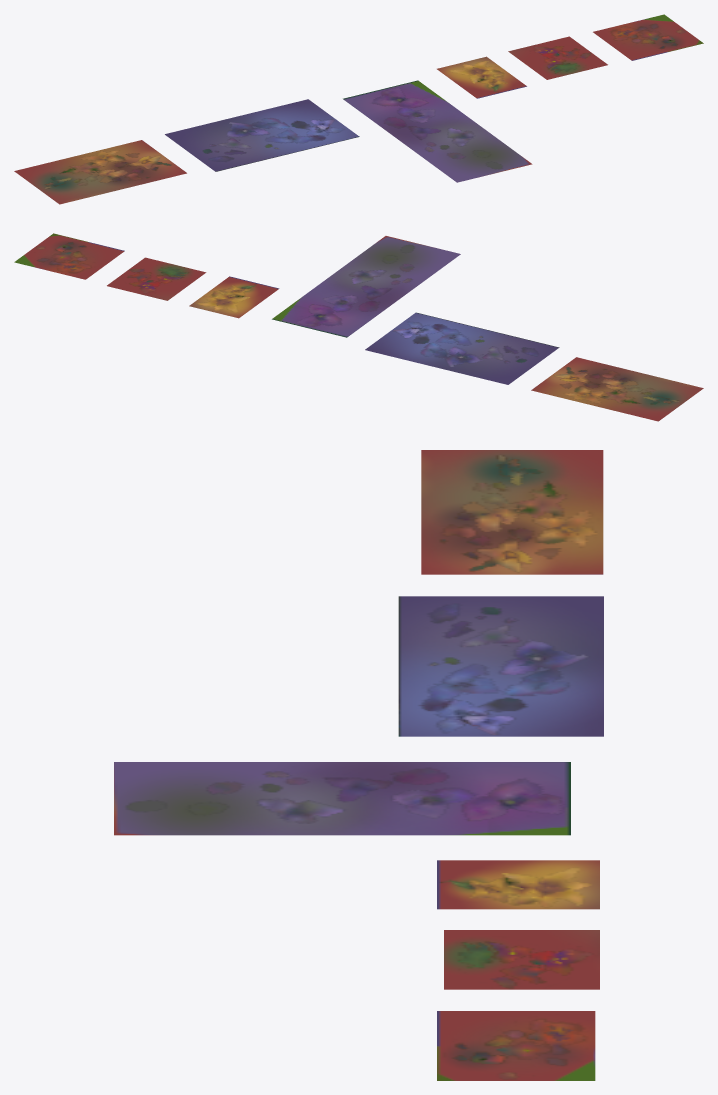
The model's file is FB1_huaban.FBX.
3 views of the same model, one above another, from view 1: azimuth 30°, elevation 25°; view 2: azimuth 150°, elevation 25°; view 3: azimuth 270°, elevation 25° (orthographic). The views are drawn at different scales.
Parts seen in each view (by area): view 1: FB1_huaban_003, FB1_huaban_002, FB1_huaban_001, FB1_huaban_006, FB1_huaban_005, FB1_huaban_004; view 2: FB1_huaban_003, FB1_huaban_002, FB1_huaban_001, FB1_huaban_006, FB1_huaban_005, FB1_huaban_004; view 3: FB1_huaban_003, FB1_huaban_002, FB1_huaban_001, FB1_huaban_006, FB1_huaban_005, FB1_huaban_004.
Part boxes in pixels (x1,y1,x2,y2): FB1_huaban_003: [343, 80, 532, 182]; FB1_huaban_002: [165, 99, 359, 171]; FB1_huaban_001: [14, 140, 186, 204]; FB1_huaban_006: [593, 14, 703, 60]; FB1_huaban_005: [508, 36, 607, 79]; FB1_huaban_004: [437, 56, 526, 98]; FB1_huaban_003: [272, 236, 460, 337]; FB1_huaban_002: [365, 312, 559, 384]; FB1_huaban_001: [531, 357, 703, 421]; FB1_huaban_006: [14, 233, 124, 279]; FB1_huaban_005: [107, 257, 206, 300]; FB1_huaban_004: [189, 276, 279, 318]; FB1_huaban_003: [114, 762, 570, 835]; FB1_huaban_002: [398, 596, 603, 736]; FB1_huaban_001: [421, 450, 603, 574]; FB1_huaban_006: [437, 1011, 595, 1080]; FB1_huaban_005: [444, 930, 599, 989]; FB1_huaban_004: [437, 860, 599, 909].
Size of the model in its own units: 1179 by 1.66e-05 by 387.
1 material, 1 textured.
